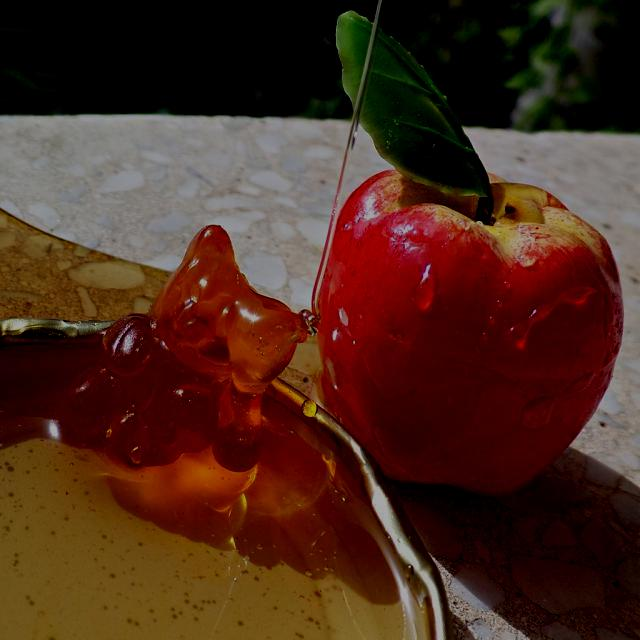Apple: (316, 169, 624, 496)
